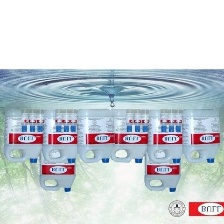cleaning_solution: (107, 105, 151, 166), (142, 126, 180, 193), (144, 106, 185, 167), (180, 105, 222, 164), (75, 106, 116, 164), (37, 136, 76, 195), (39, 109, 80, 165), (3, 107, 43, 162)
